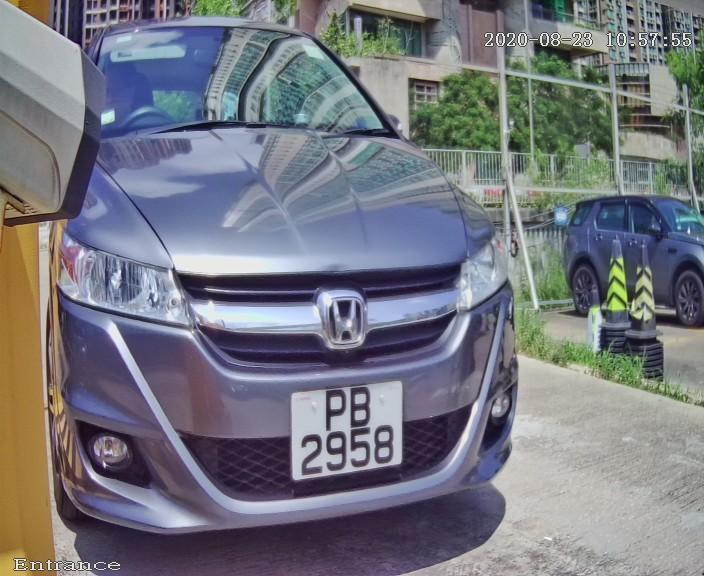Car: (13, 1, 560, 576)
License Plate: (283, 373, 412, 489)
